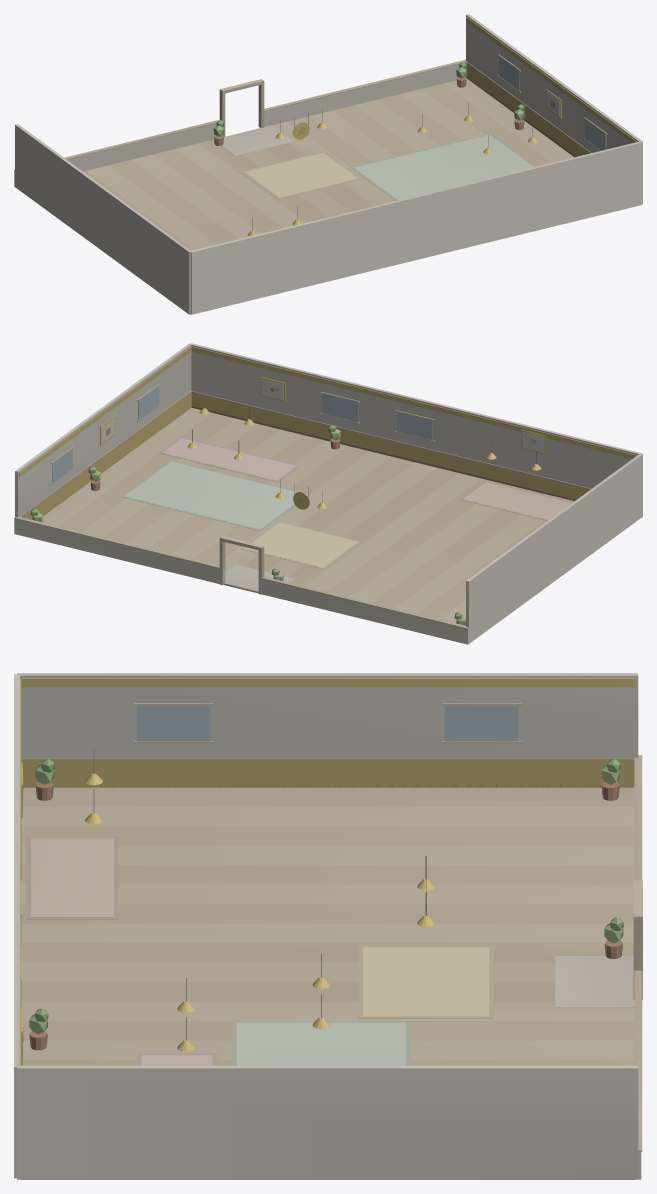
Rendered from mall_floor1.glb.
The picture shows the model from 3 angles, top to bottom: view 1: azimuth 30°, elevation 25°; view 2: azimuth 150°, elevation 25°; view 3: azimuth 270°, elevation 25°; orthographic projection. The views are drawn at different scales.
Parts seen in each view (by area): view 1: mall.floor1; view 2: mall.floor1; view 3: mall.floor1.
Boxes of the visible parts, x1,y1,x2,y2 form: mall.floor1: [14, 14, 642, 314]; mall.floor1: [14, 343, 642, 644]; mall.floor1: [14, 673, 642, 1179].
Bounding box in the file's own units: 30.4 × 4.1 × 20.45.
